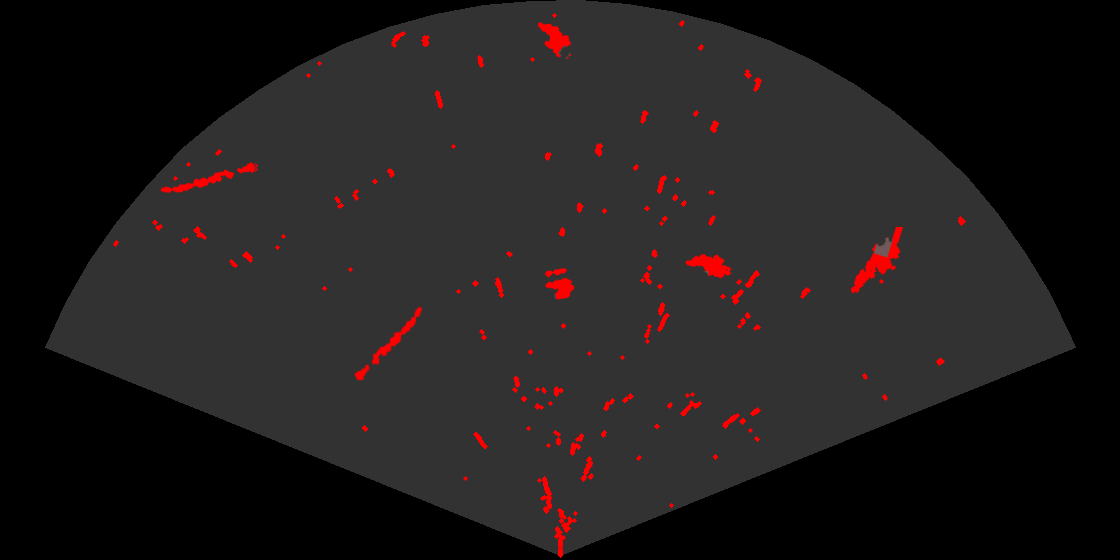AUV: (536, 21, 573, 61), (683, 253, 733, 280)
ball: (543, 267, 576, 301)
chain: (353, 305, 424, 382), (159, 161, 258, 195)
frogman: (849, 227, 905, 295)
